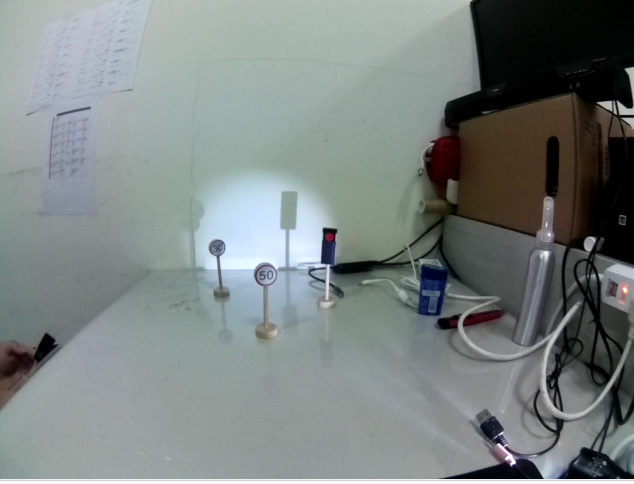Red: (320, 222, 337, 265)
Speed30: (208, 238, 229, 257)
Speed50: (252, 260, 281, 287)
